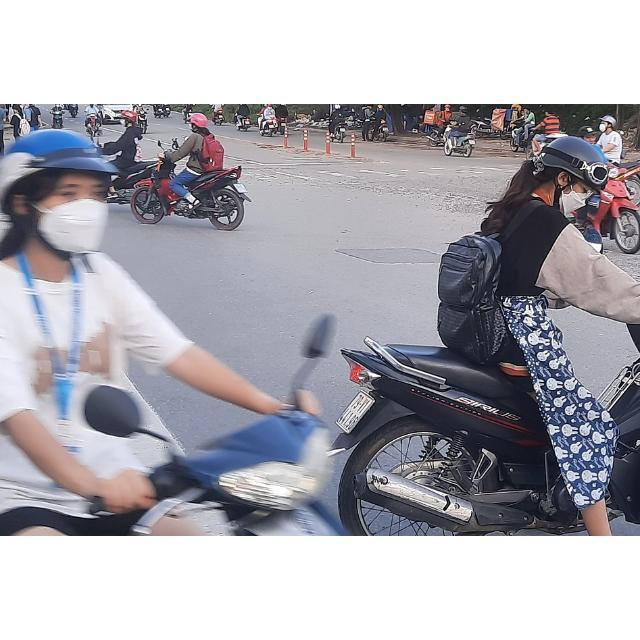Helmet: (2, 132, 114, 260), (540, 136, 608, 216), (187, 115, 210, 134)
